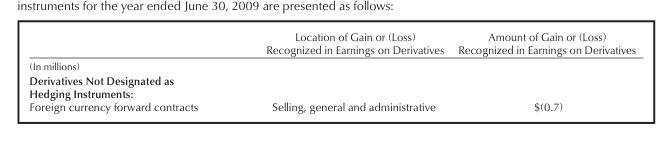table: (28, 29, 635, 113)
table column: (231, 29, 450, 113), (28, 29, 231, 113), (450, 29, 635, 113)
table column header: (28, 29, 635, 72)
table projected row header: (28, 72, 635, 99)
table row: (28, 29, 635, 72), (28, 72, 635, 99), (28, 99, 635, 113)
